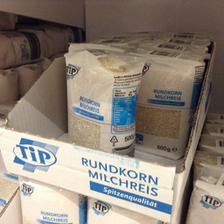rice: (63, 48, 139, 157), (132, 51, 205, 160)
